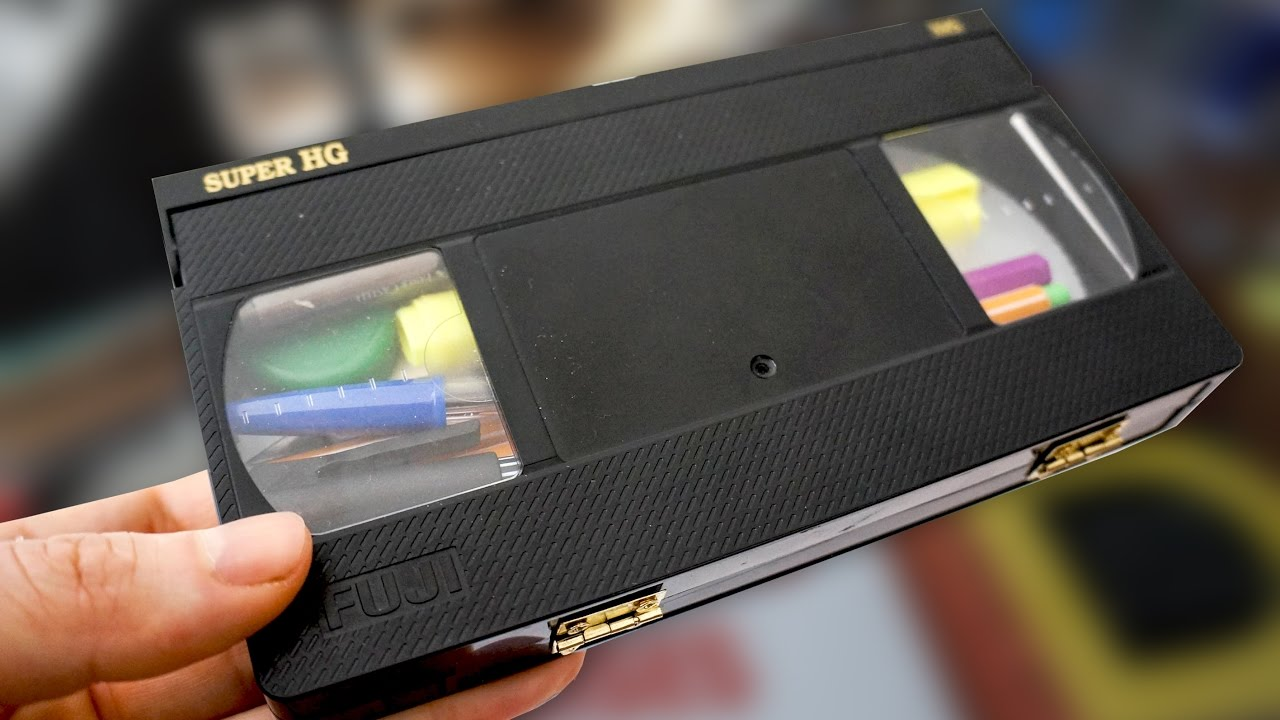Nonrec_Other: (135, 22, 1256, 692)
